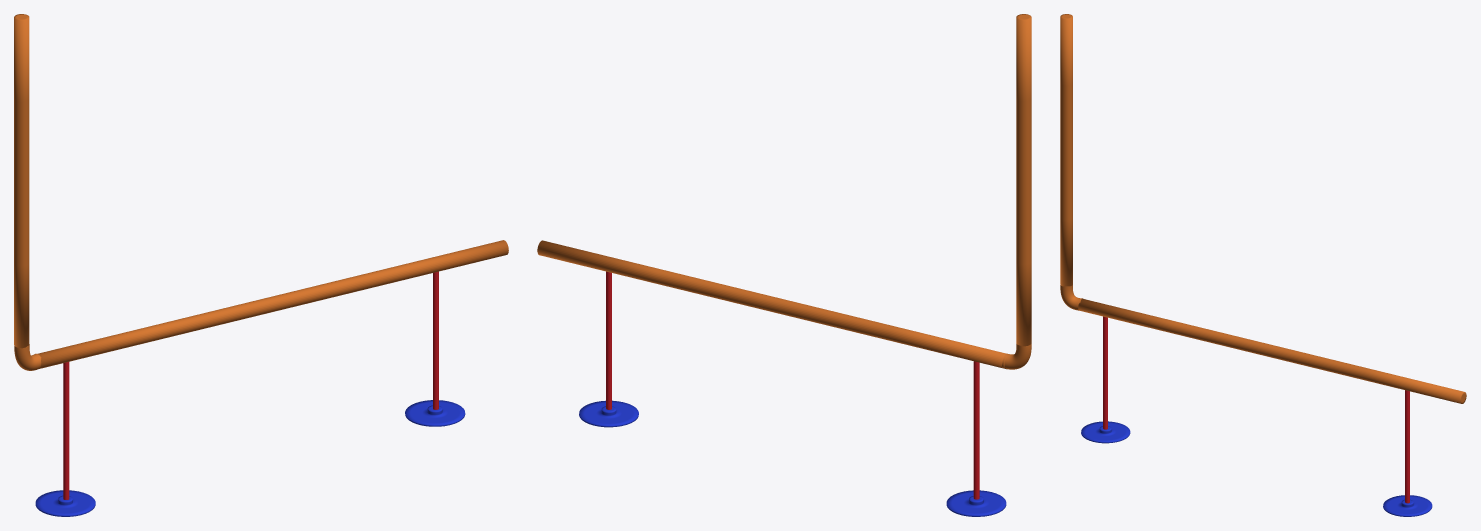
Rendered from L pipe-2.fbx.
3 renders of one model, left to right at view 1: azimuth 30°, elevation 25°; view 2: azimuth 150°, elevation 25°; view 3: azimuth 330°, elevation 25°, orthographic. The views are drawn at different scales.
Parts seen in each view (by area): view 1: Cylinder.001; view 2: Cylinder.001; view 3: Cylinder.001.
Part boxes in pixels (bbox=[...]): Cylinder.001: bbox=[14, 14, 508, 516]; Cylinder.001: bbox=[537, 14, 1031, 516]; Cylinder.001: bbox=[1060, 14, 1466, 516].
Bounding box in the file's own units: 188 × 183 × 20.
